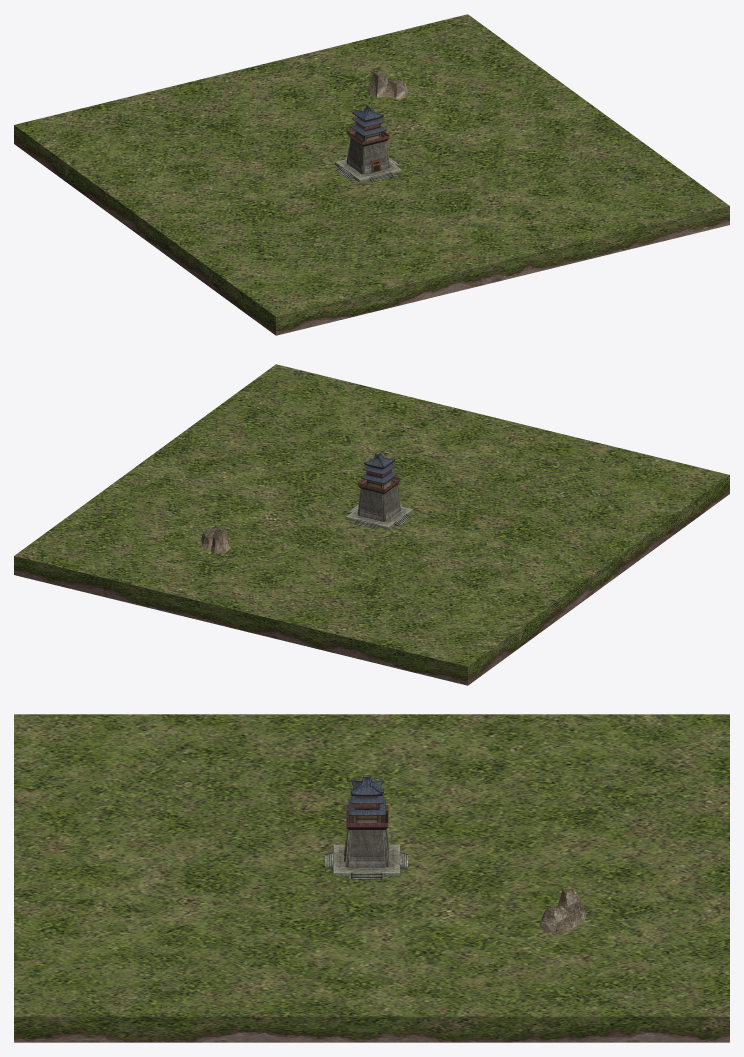
File: map008.FBX
3 views of the same model, one above another, from view 1: azimuth 30°, elevation 25°; view 2: azimuth 150°, elevation 25°; view 3: azimuth 270°, elevation 25° (orthographic). The views are drawn at different scales.
Visible parts, largest first — view 1: map008, house186, Box043; view 2: map008, house186, Box043; view 3: map008, house186, Box043.
Part boxes in pixels (x1=…): map008: x1=14, y1=14, x2=729, y2=335; house186: x1=334, y1=104, x2=402, y2=182; Box043: x1=367, y1=72, x2=408, y2=99; map008: x1=14, y1=364, x2=729, y2=685; house186: x1=345, y1=452, x2=413, y2=529; Box043: x1=201, y1=527, x2=230, y2=553; map008: x1=14, y1=714, x2=729, y2=1042; house186: x1=325, y1=776, x2=408, y2=879; Box043: x1=539, y1=889, x2=586, y2=934.
Bounding box in the file's own units: 100 × 17.16 × 100.
